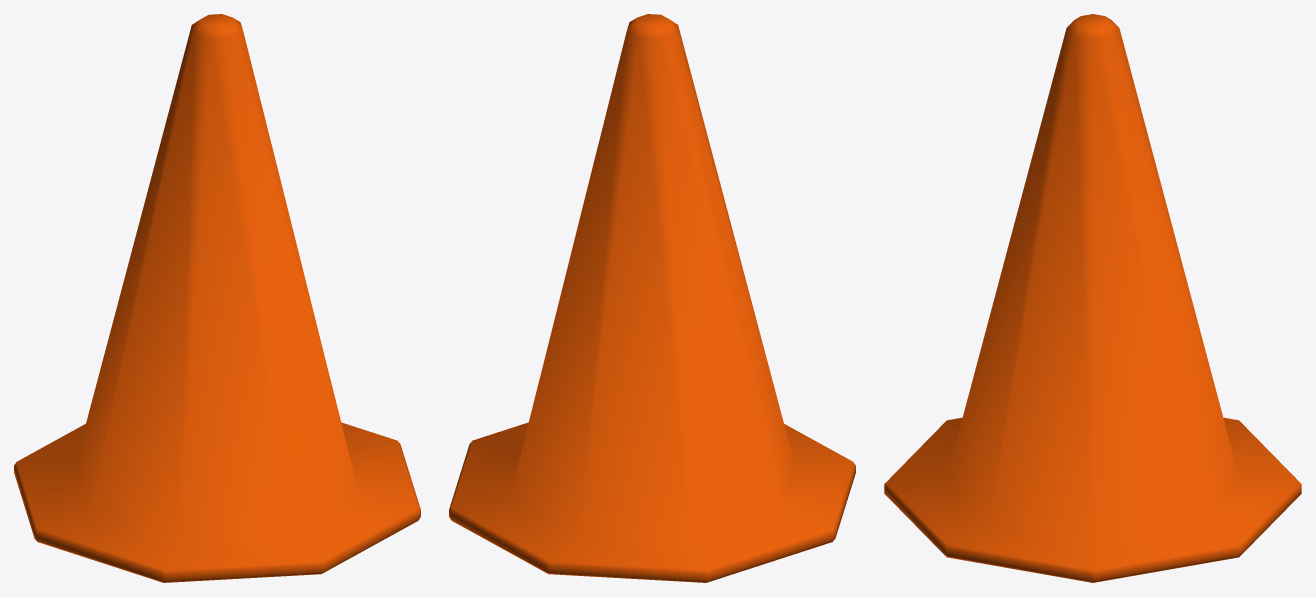
File: TrafficPilon2_v1.fbx
3 views of the same model, side by side, from view 1: azimuth 30°, elevation 25°; view 2: azimuth 150°, elevation 25°; view 3: azimuth 270°, elevation 25° (orthographic).
Visible parts, largest first — view 1: Cylinder.155; view 2: Cylinder.155; view 3: Cylinder.155.
Part boxes in pixels (x1,y1,x2,y2): Cylinder.155: (14,14,420,582); Cylinder.155: (449,14,855,582); Cylinder.155: (884,14,1301,582).
Bounding box in the file's own units: 201 × 252 × 201.
